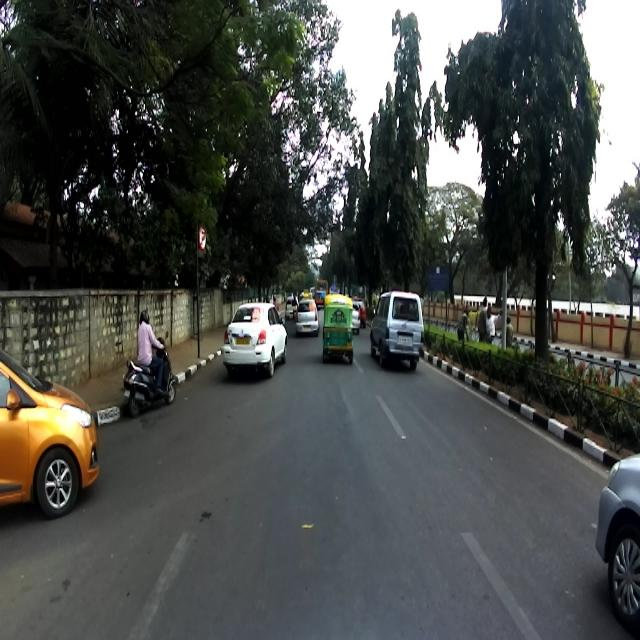car: (0, 348, 101, 521), (596, 444, 640, 639), (221, 302, 287, 380), (370, 290, 426, 368), (294, 298, 319, 336)
scooter: (122, 332, 178, 418)
